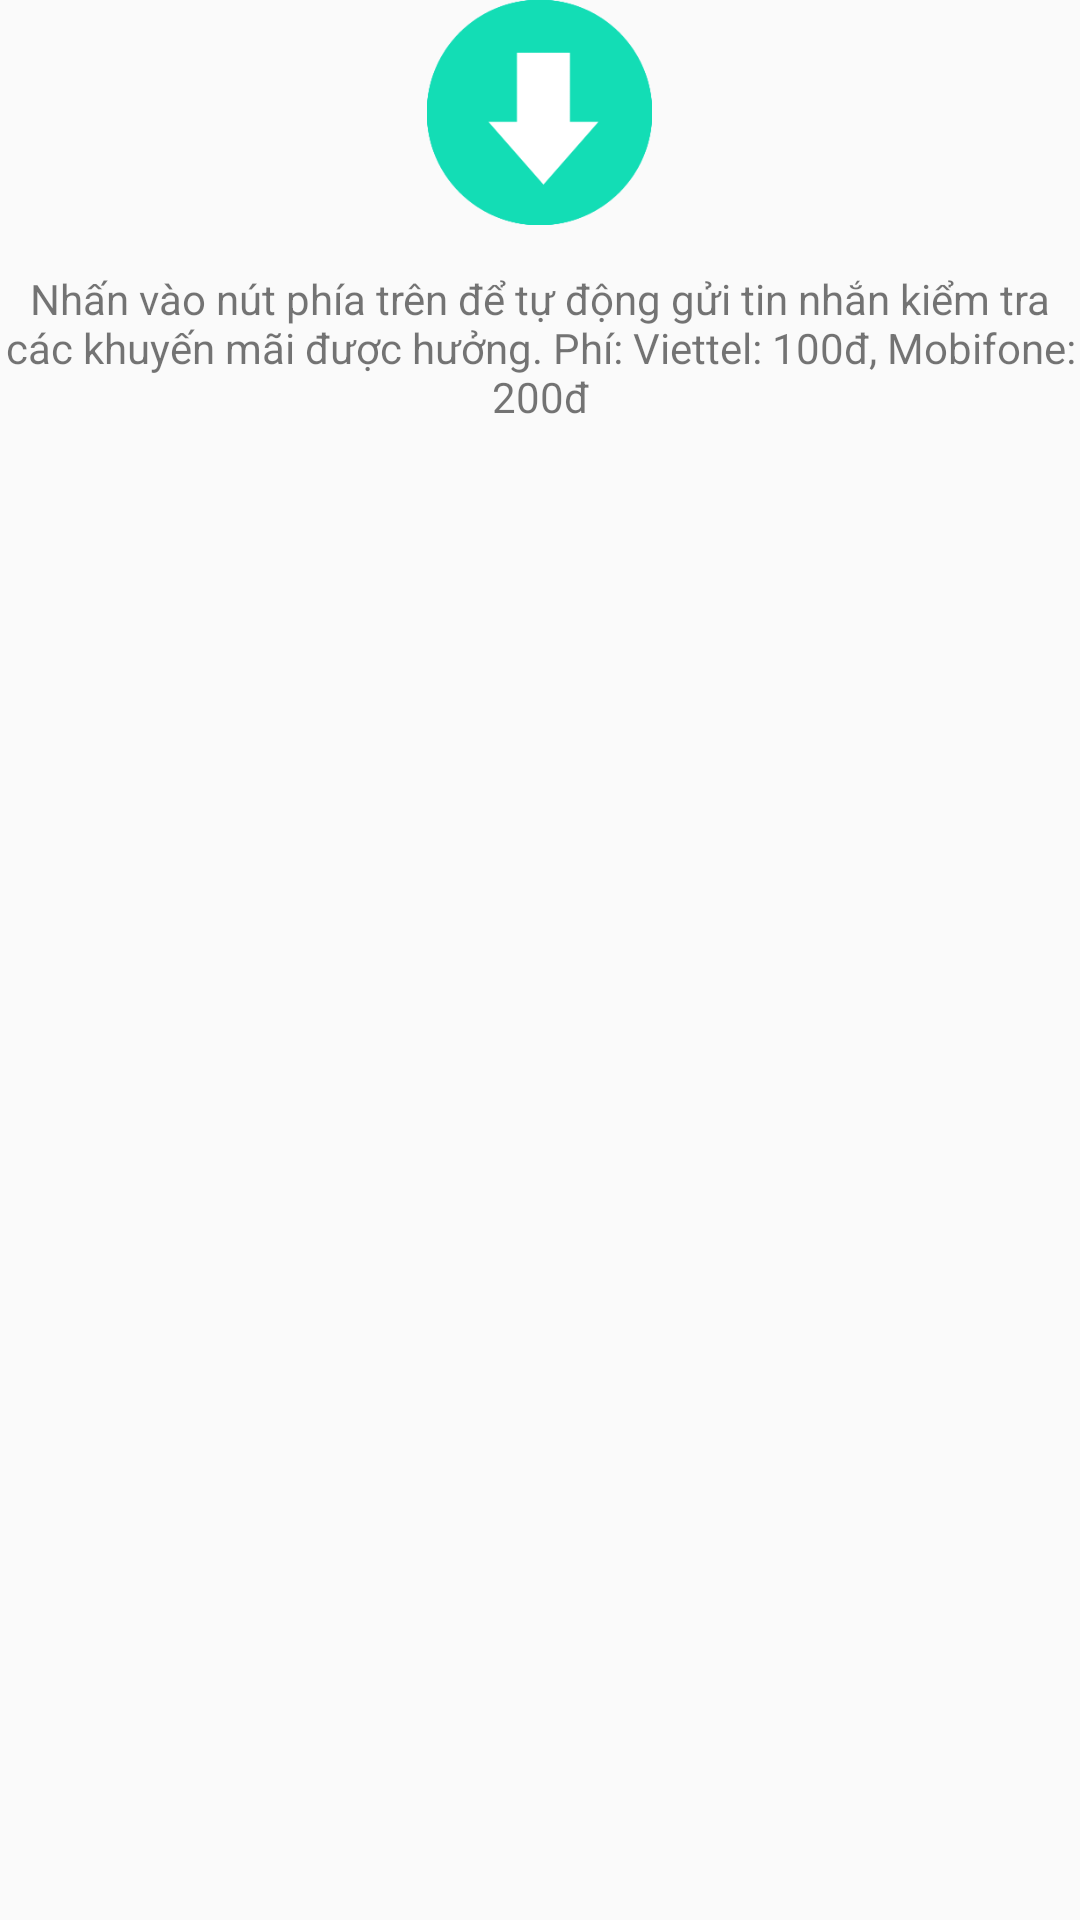

Icons on this 1080w x 1920h Android screen, each with its box as (x1, y1, x2, y2):
load promotions: (427, 0, 652, 225)
